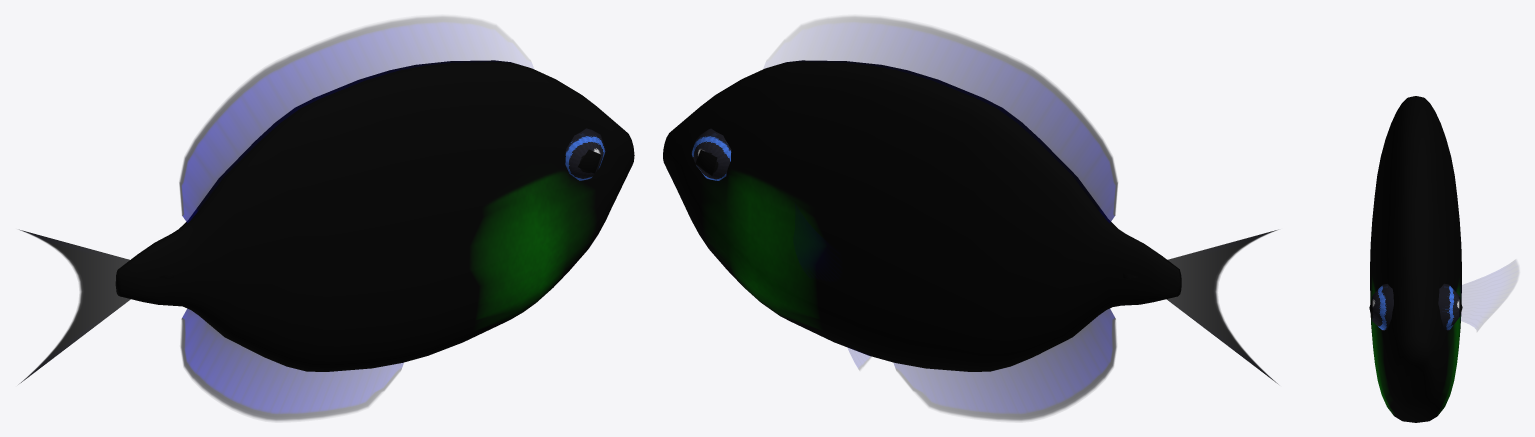
Rendered from tang_lod1.glb.
The picture shows the model from 3 angles, left to right: view 1: azimuth 30°, elevation 25°; view 2: azimuth 150°, elevation 25°; view 3: azimuth 270°, elevation 25°; orthographic projection. The views are drawn at different scales.
Visible parts, largest first — view 1: Body, FinDorsal, FinAnal, FinCaudal, EyeR; view 2: Body, FinDorsal, FinAnal, FinCaudal, FinPectoralL, EyeL; view 3: Body, FinPectoralL, EyeR, EyeL.
Boxes of the visible parts, x1,y1,x2,y2 form: Body: (116, 60, 634, 371); FinDorsal: (179, 16, 525, 222); FinAnal: (180, 308, 403, 420); FinCaudal: (18, 229, 131, 384); EyeR: (565, 128, 606, 180); Body: (663, 60, 1180, 371); FinDorsal: (772, 16, 1117, 222); FinAnal: (894, 308, 1116, 420); FinCaudal: (1166, 230, 1278, 384); FinPectoralL: (793, 204, 840, 280); EyeL: (691, 128, 731, 180); Body: (1370, 96, 1461, 422); FinPectoralL: (1460, 260, 1518, 330); EyeR: (1369, 284, 1393, 330); EyeL: (1438, 283, 1462, 330).
Bounding box in the file's own units: 1 × 0.5962 × 0.3206.
4 materials, 3 textured.
